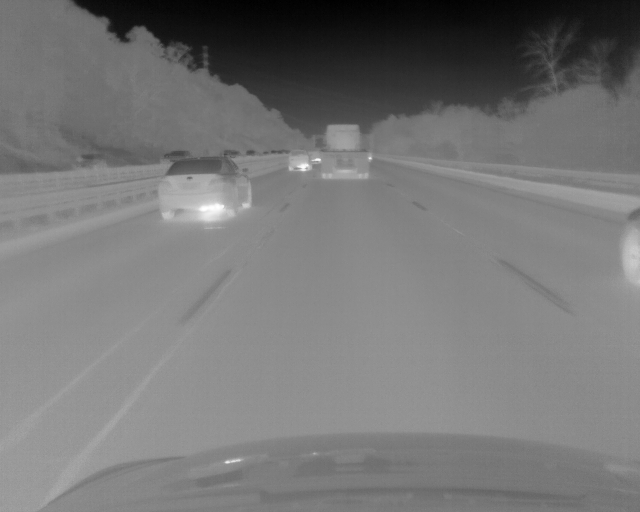car: (157, 158, 252, 219), (320, 124, 369, 180), (618, 209, 640, 284), (288, 149, 311, 171), (74, 153, 105, 169), (163, 150, 191, 161), (309, 150, 321, 163), (223, 151, 241, 156), (247, 150, 257, 156), (263, 151, 269, 156)
